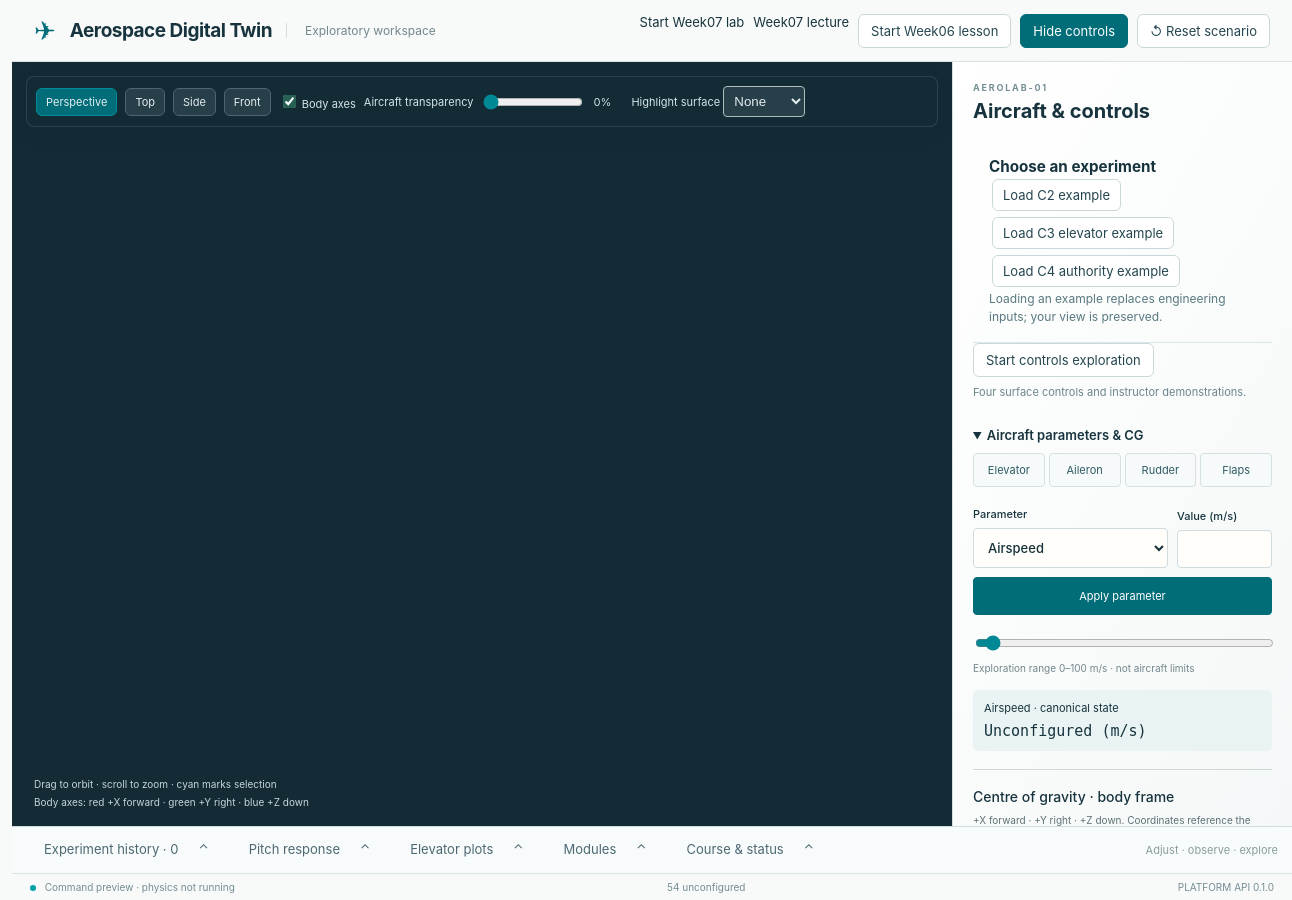
Test case: lists Week 06 in the registered course catalog
Click the button "Course & status ⌃" at (750, 850), box [668,827,832,873]
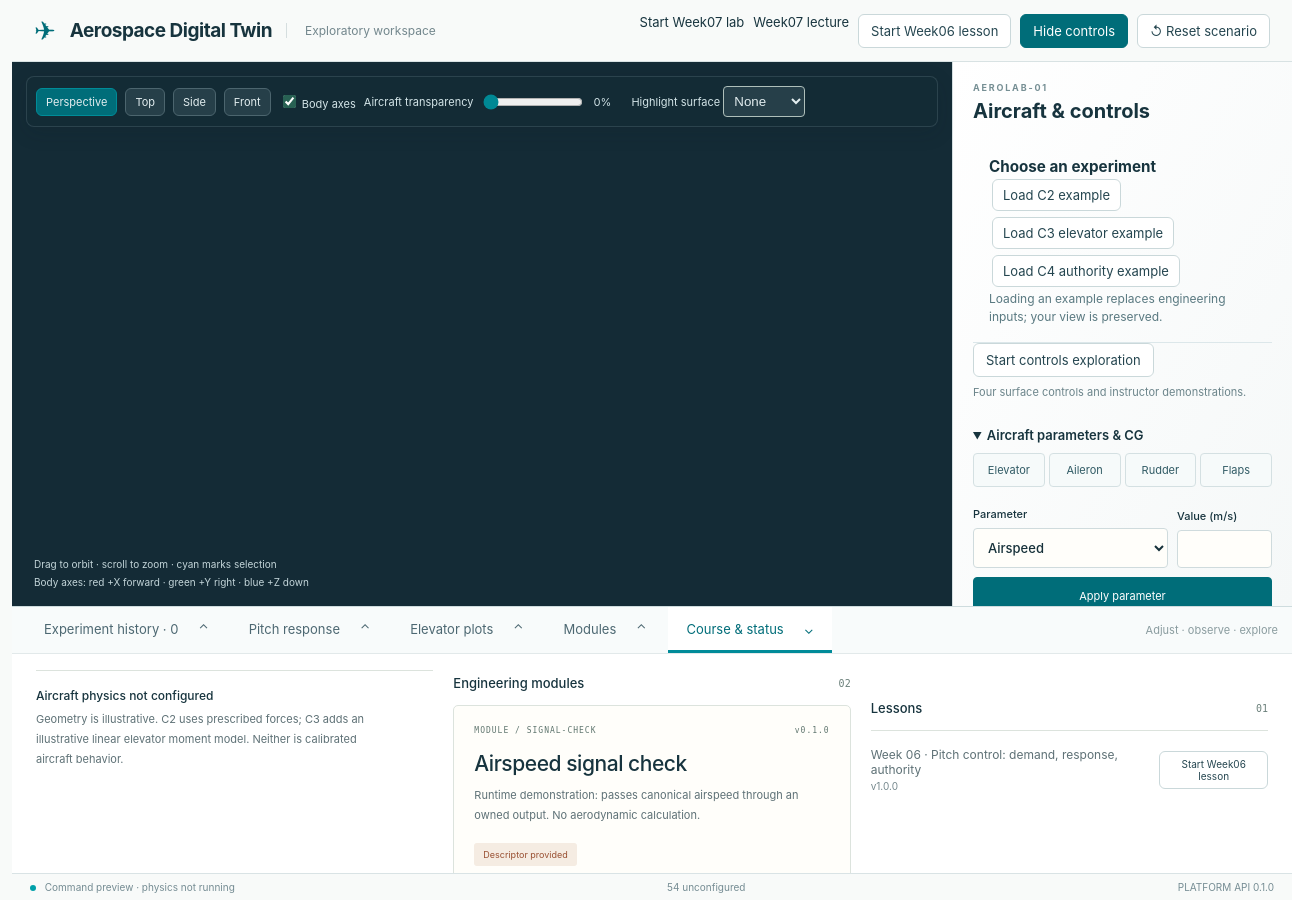
Now the text "Week 06 · Pitch control: demand, response, authority" is shown, box [871,747,1118,777]
